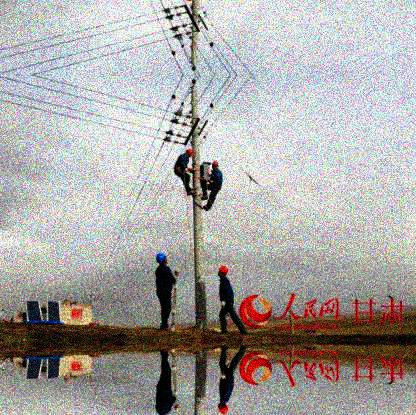helmet: (156, 253, 167, 268), (219, 266, 228, 279), (185, 149, 192, 158), (212, 160, 218, 170)
